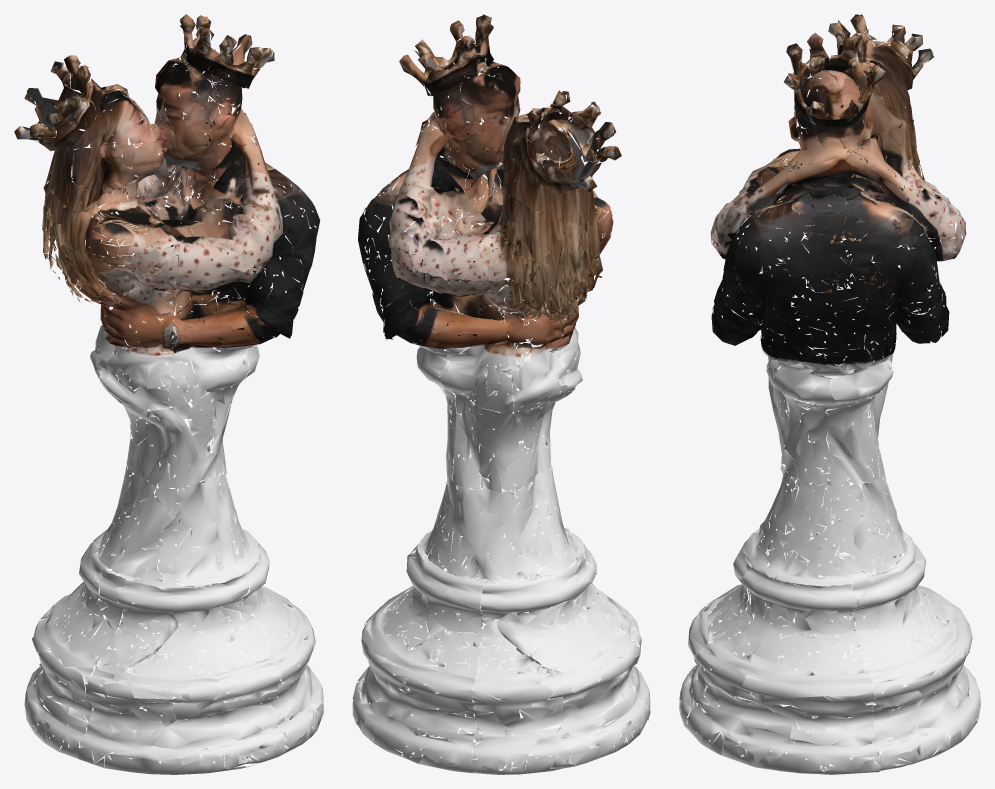
The model's file is queen_white.glb.
3 views of the same model, side by side, from view 1: azimuth 30°, elevation 25°; view 2: azimuth 150°, elevation 25°; view 3: azimuth 270°, elevation 25° (orthographic).
Parts seen in each view (by area): view 1: tripo_node_e6546c42-dc67-46bc-a615-a479dc0392c7; view 2: tripo_node_e6546c42-dc67-46bc-a615-a479dc0392c7; view 3: tripo_node_e6546c42-dc67-46bc-a615-a479dc0392c7.
Boxes of the visible parts, left/top/right/bottom form: tripo_node_e6546c42-dc67-46bc-a615-a479dc0392c7: left=14, top=14, right=323, bottom=774; tripo_node_e6546c42-dc67-46bc-a615-a479dc0392c7: left=352, top=14, right=650, bottom=774; tripo_node_e6546c42-dc67-46bc-a615-a479dc0392c7: left=679, top=14, right=980, bottom=774.
Bounding box in the file's own units: 0.3941 × 1 × 0.39.
Materials: 1 (1 with a texture image).
